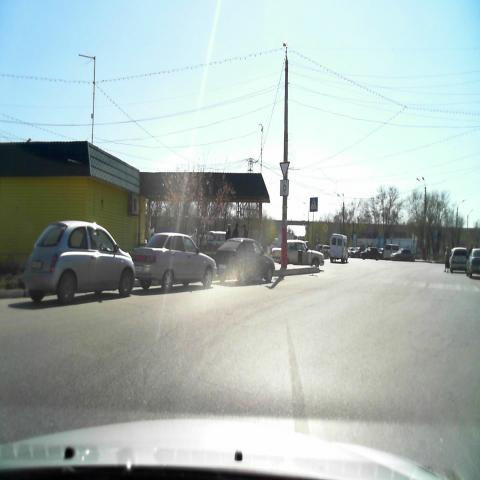8_13_1: (278, 180, 290, 198)
